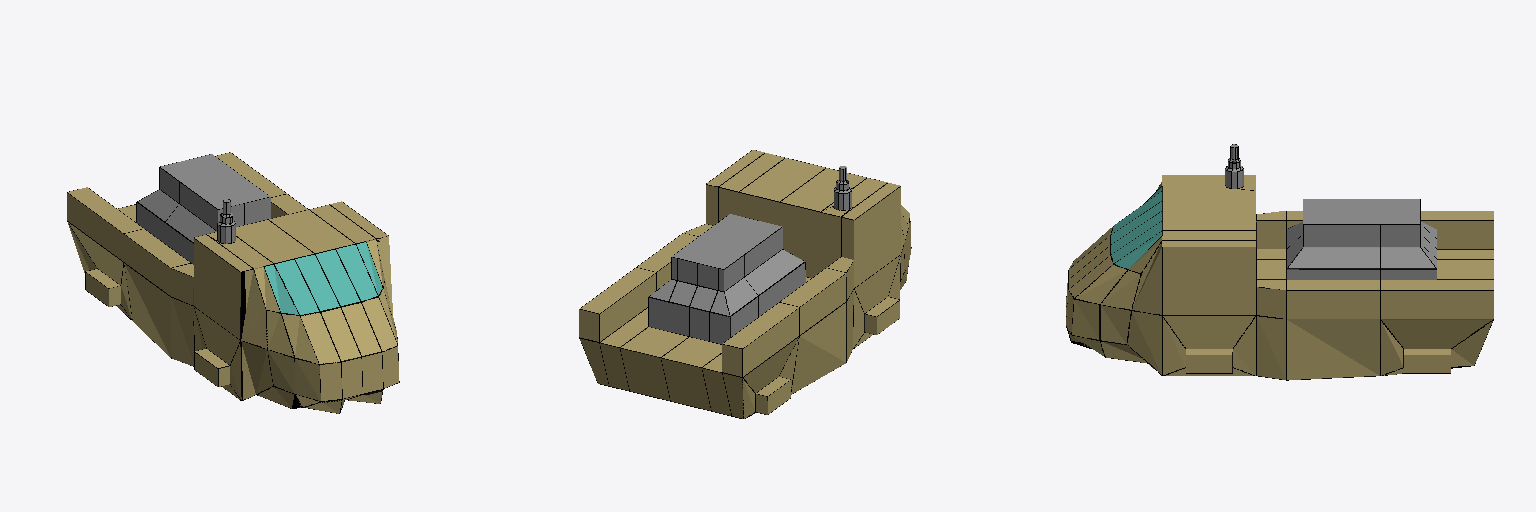
The picture shows the model from 3 angles: view 1: azimuth 30°, elevation 25°; view 2: azimuth 150°, elevation 25°; view 3: azimuth 270°, elevation 25°; orthographic projection.
Parts seen in each view (by area): view 1: truck3_radar_Cube.019; view 2: truck3_radar_Cube.019; view 3: truck3_radar_Cube.019.
Boxes of the visible parts, x1,y1,x2,y2 form: truck3_radar_Cube.019: [67, 152, 399, 413]; truck3_radar_Cube.019: [579, 150, 911, 418]; truck3_radar_Cube.019: [1066, 144, 1493, 380].
Size of the model in its own units: 1.67 by 1.59 by 3.64.
1 materials, 1 textured.